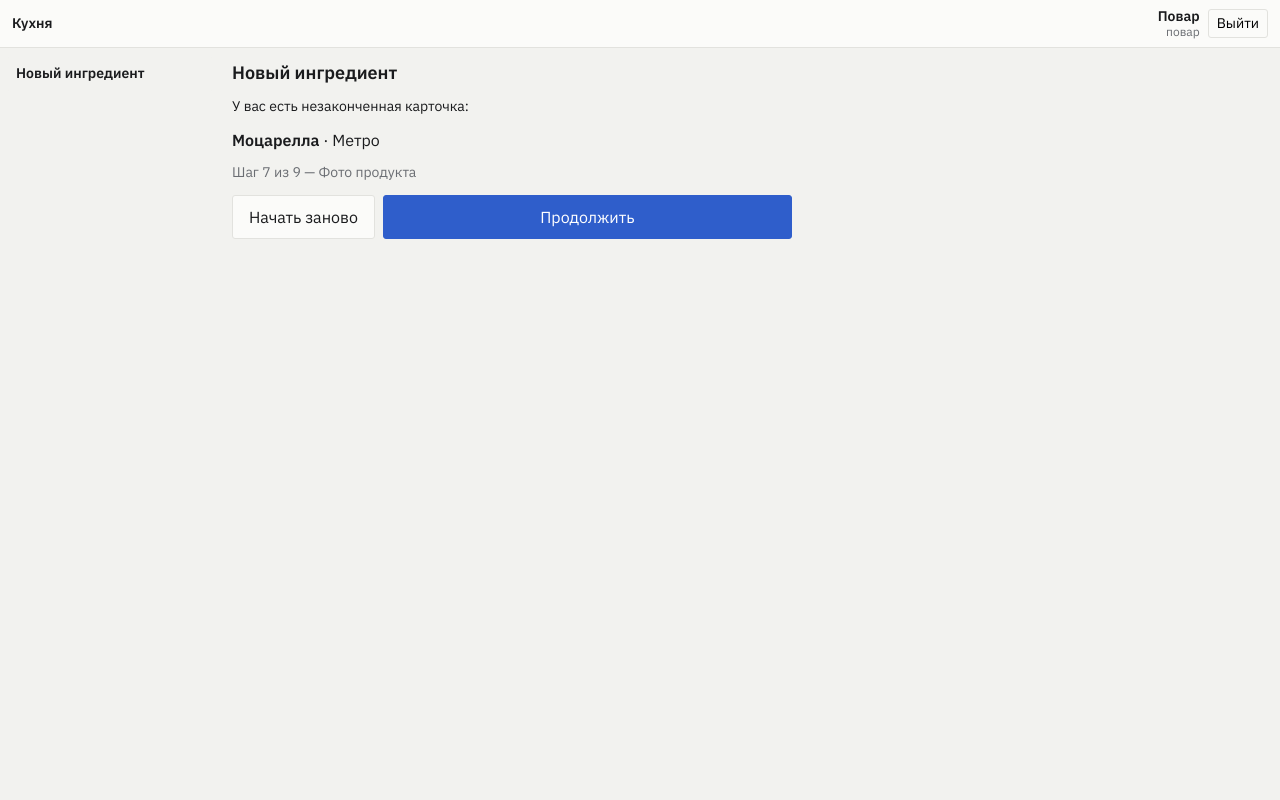
Test: три фото продукта необязательны — «Пропустить» ведёт к описанию
This screenshot has width=1280, height=800.
Click the button "Продолжить": (587, 217) [383,195,792,239]
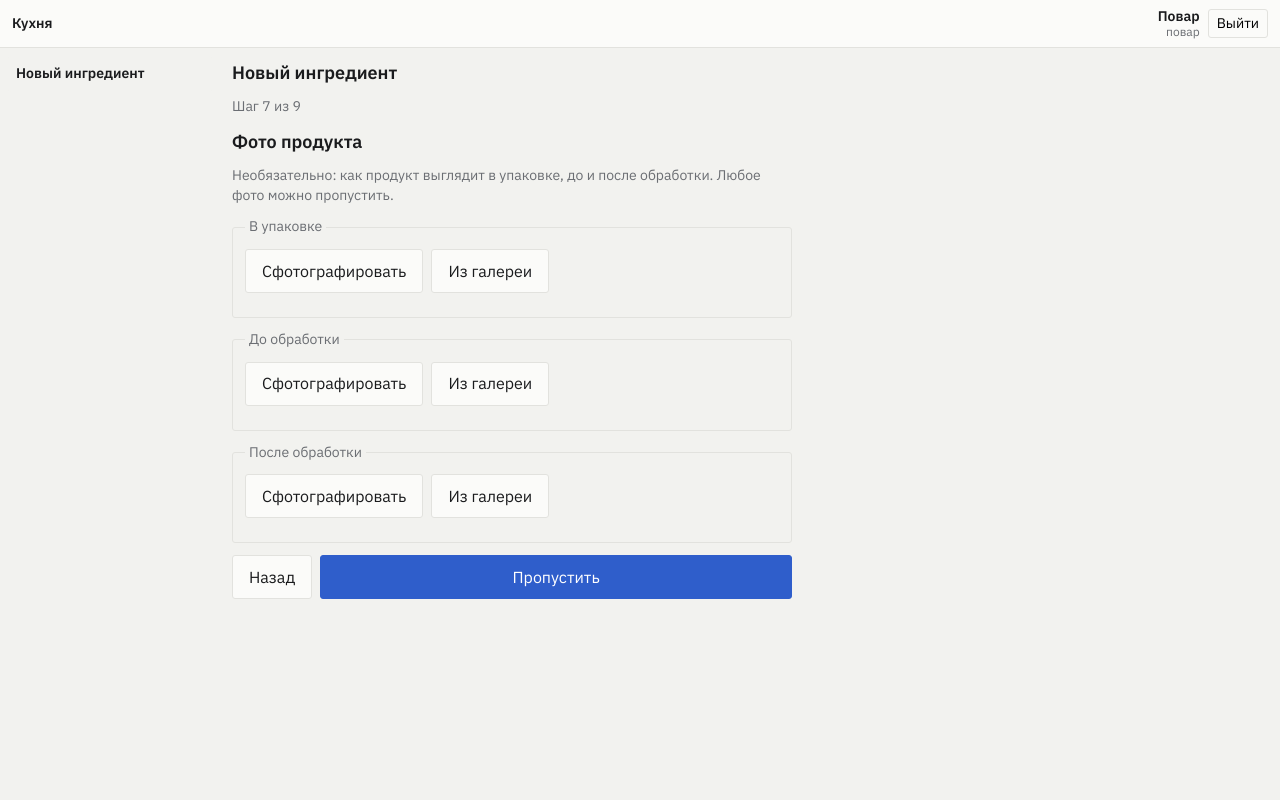
Now the 1st file field labelled "Сфотографировать" is enabled, box [245,249,423,293]
Now the 1st file field labelled "Из галереи" is enabled, box [431,249,549,293]
Now the file field labelled "Сфотографировать" below "До обработки" is enabled, box [245,362,423,406]
Click the button "Пропустить": (556, 577) [320,555,792,599]
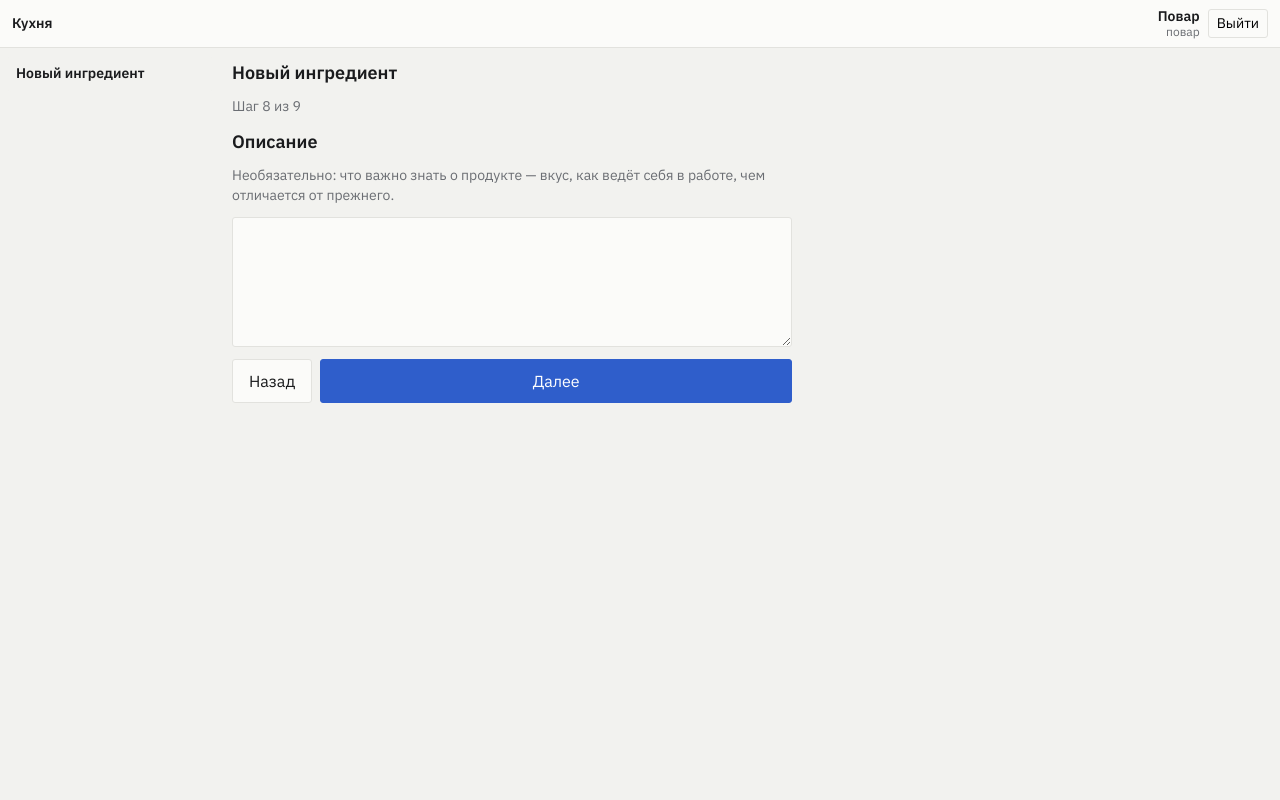
Now the text "Шаг 8 из 9" is shown, box [232,97,301,115]
